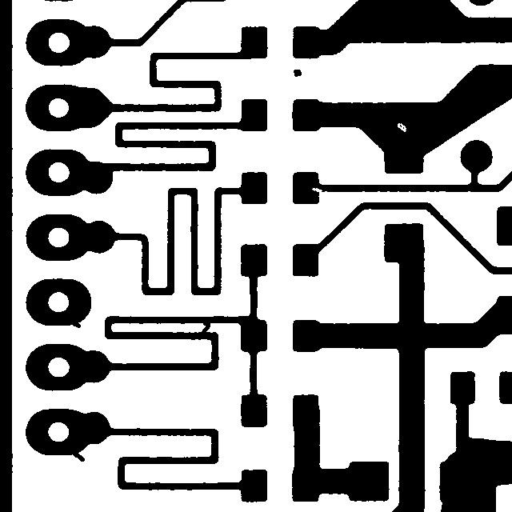copper: (286, 62, 309, 84)
mousebite: (304, 180, 330, 200)
pin-hole: (390, 115, 414, 139)
short: (193, 314, 218, 342)
spur: (65, 442, 92, 469), (65, 314, 88, 335)
